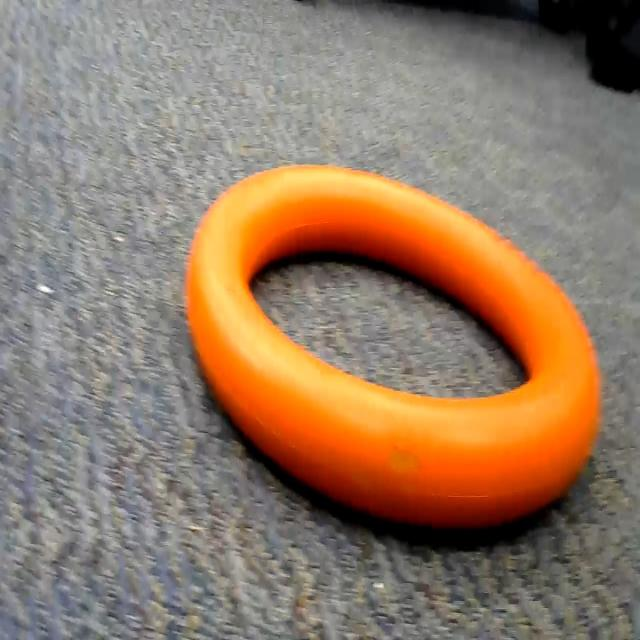note: (180, 156, 607, 537)
